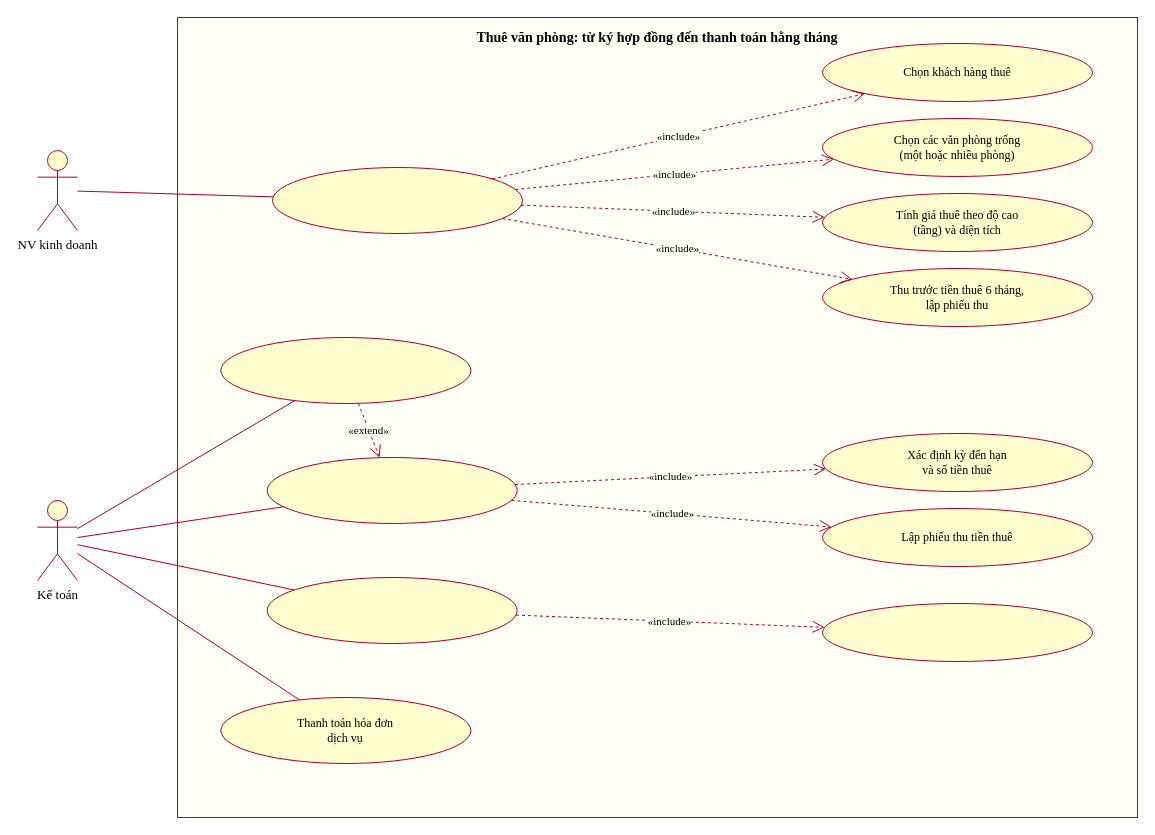
This 1155x835 diagram has some shape labels left out. The centre of each missing label's shape, as x and y in pixels:
Ghi số lượng sử dụng dịch vụ (điện, nước, internet...): (x=957, y=632)
Lập hóa đơn dịch vụ cuối tháng: (x=391, y=610)
Lập hợp đồng thuê văn phòng: (x=397, y=200)
Thu tiền thuê hằng tháng (từ tháng thứ 7): (x=391, y=490)
Xem tình trạng thanh toán của hợp đồng: (x=345, y=370)
